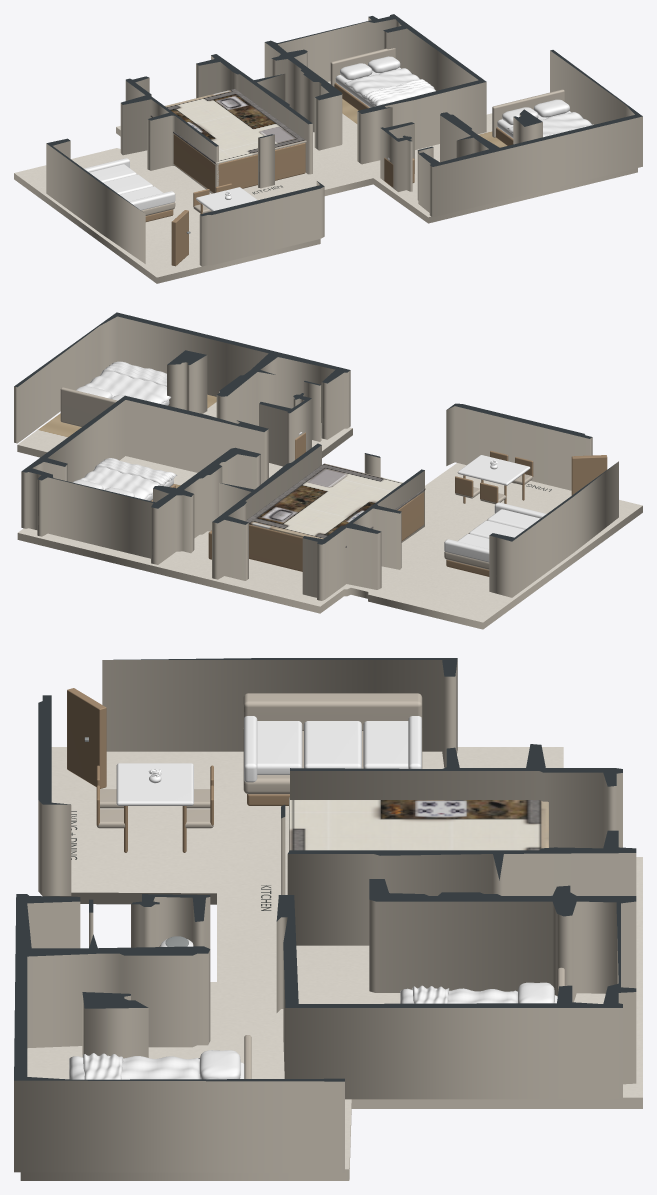
Rendered from opal-group-unit-02.glb.
3 renders of one model, top to bottom at view 1: azimuth 30°, elevation 25°; view 2: azimuth 150°, elevation 25°; view 3: azimuth 270°, elevation 25°, orthographic. The views are drawn at different scales.
Visible parts, largest first — view 1: Partition walls, Apartment floor, Stone worktop, Kitchen cabinets, Draped bed linen, Upholstered headboard.001, Open oak door, Marble dining top, Draped bed linen.002, Upholstered headboard, Draped bed linen.001, Seat cushion.001 (+5 smaller); view 2: Partition walls, Apartment floor, Stone worktop, Kitchen cabinets, Draped bed linen.002, Upholstered headboard.001, Draped bed linen, Marble dining top, Open oak door, Draped bed linen.001, Draped bed linen.003, Padded armrest.001 (+2 smaller); view 3: Partition walls, Apartment floor, Stone worktop, Sofa back, Open oak door, Marble dining top, Seat cushion.001, Seat cushion, Seat cushion.002, Draped bed linen.002, Draped bed linen, Tailored pillow.002 (+5 smaller).
Boxes of the visible parts, x1,y1,x2,y2 form: Partition walls: [46, 14, 642, 266]; Apartment floor: [14, 81, 637, 283]; Stone worktop: [150, 89, 306, 164]; Kitchen cabinets: [173, 134, 305, 193]; Draped bed linen: [344, 68, 435, 106]; Upholstered headboard.001: [492, 89, 564, 137]; Open oak door: [171, 210, 188, 266]; Marble dining top: [196, 187, 257, 211]; Draped bed linen.002: [507, 112, 591, 137]; Upholstered headboard: [330, 48, 395, 86]; Draped bed linen.001: [363, 79, 434, 103]; Seat cushion.001: [103, 174, 152, 194]; Partition walls: [14, 312, 618, 600]; Apartment floor: [17, 394, 642, 629]; Stone worktop: [246, 463, 425, 547]; Kitchen cabinets: [249, 492, 424, 571]; Draped bed linen.002: [84, 361, 170, 404]; Upholstered headboard.001: [60, 387, 117, 426]; Draped bed linen: [79, 458, 176, 499]; Marble dining top: [457, 455, 530, 485]; Open oak door: [571, 455, 607, 495]; Draped bed linen.001: [94, 458, 173, 485]; Draped bed linen.003: [102, 361, 166, 386]; Padded armrest.001: [444, 539, 489, 562]; Partition walls: [14, 658, 636, 1173]; Apartment floor: [20, 747, 642, 1180]; Stone worktop: [289, 797, 548, 850]; Sofa back: [243, 693, 422, 730]; Open oak door: [67, 688, 106, 788]; Marble dining top: [116, 763, 193, 805]; Seat cushion.001: [304, 721, 361, 768]; Seat cushion: [257, 721, 302, 774]; Seat cushion.002: [363, 721, 408, 768]; Draped bed linen.002: [69, 1055, 200, 1079]; Draped bed linen: [400, 988, 517, 1003]; Tailored pillow.002: [199, 1050, 240, 1079].
Bounding box in the file's own units: 12.77 × 1.44 × 7.96.
12 materials, 2 textured.
